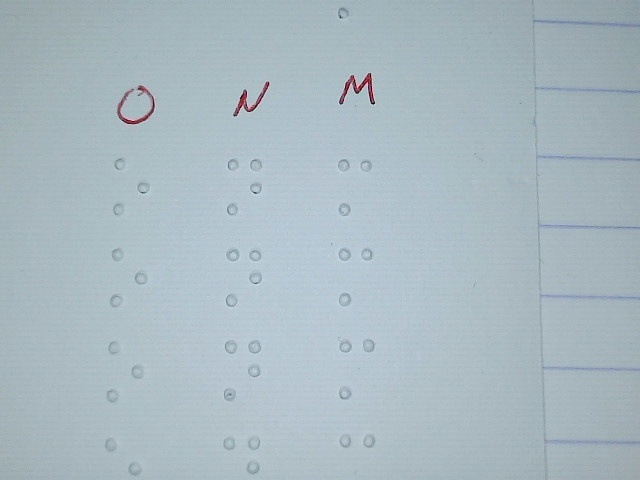M: (337, 336, 376, 400), (335, 156, 374, 217), (336, 246, 375, 307)
N: (223, 337, 262, 401), (225, 155, 264, 216), (225, 246, 264, 307)
O: (105, 338, 145, 402), (112, 157, 151, 218), (109, 247, 148, 308)
